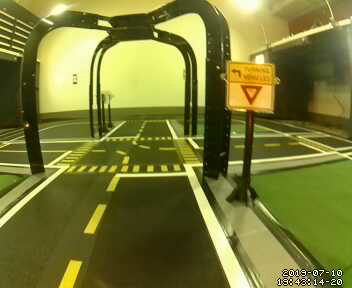Turn Yield: (226, 60, 275, 113)
